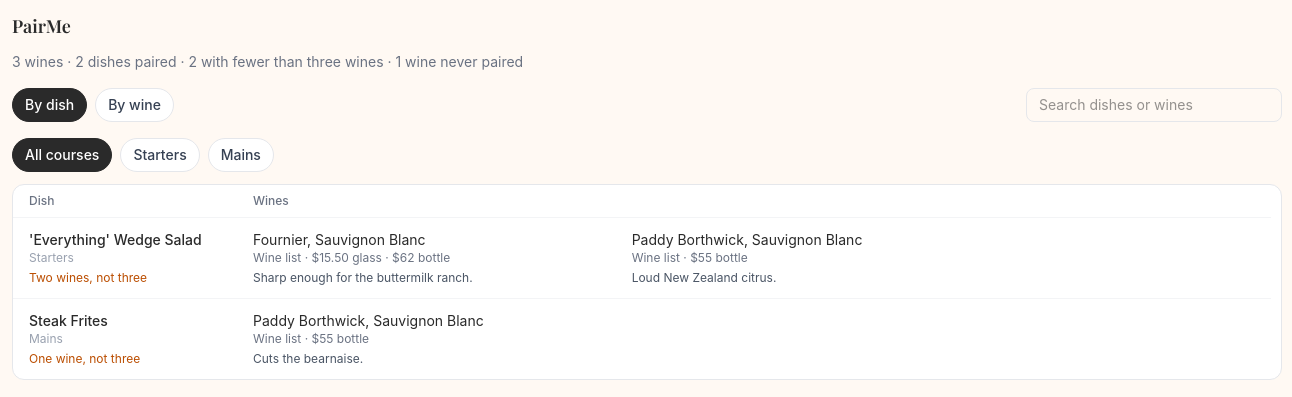
Test case: PairmeSection › course tabs show only that course
Click the button "Mains": coordinates (241, 155) [208,138,274,172]
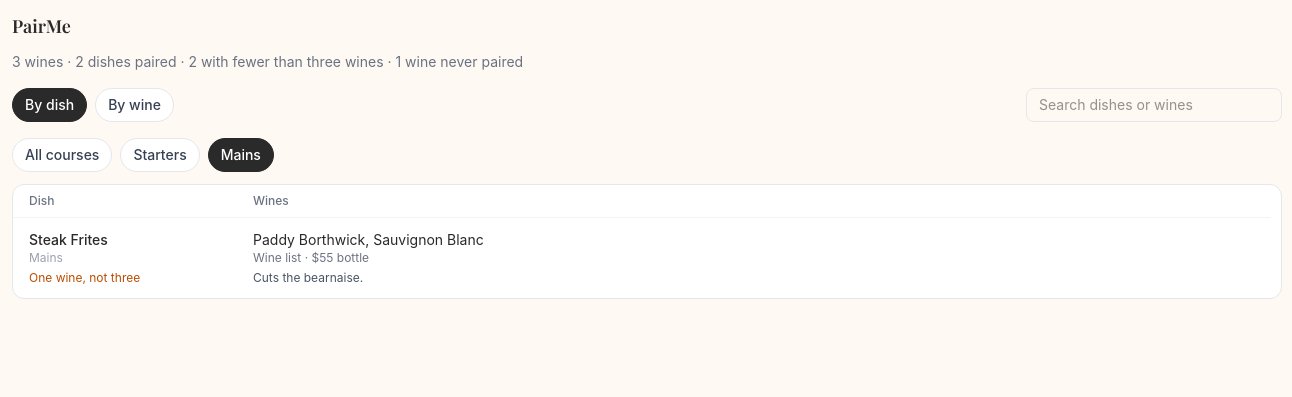
Check: the row with test id "pairme-dish" shows "Steak Frites", box [29,231,108,248]
Check: the number of rows with test id "pairme-dish" is 1, box [13,218,1271,298]
